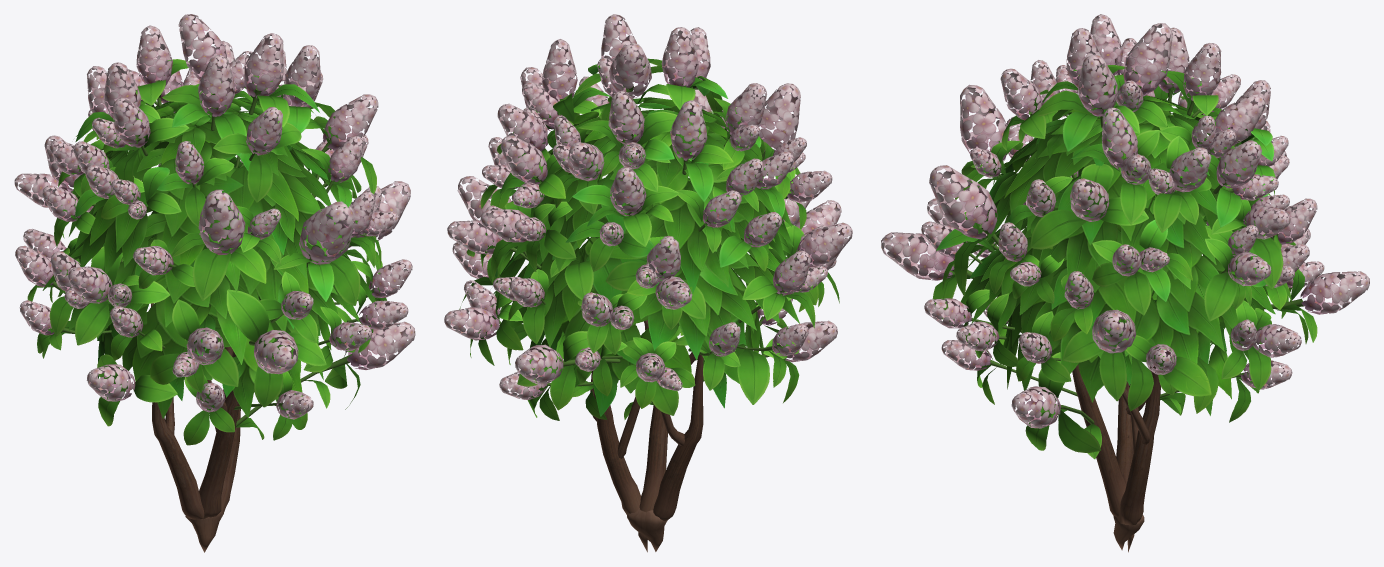
The model's file is SE_Lilac_02b.fbx.
3 renders of one model, left to right at view 1: azimuth 30°, elevation 25°; view 2: azimuth 150°, elevation 25°; view 3: azimuth 270°, elevation 25°, orthographic.
Visible parts, largest first — view 1: SE_Lilac_02b; view 2: SE_Lilac_02b; view 3: SE_Lilac_02b.
Part boxes in pixels (box(x1,y1,x2,y2)): SE_Lilac_02b: box(14, 14, 415, 552); SE_Lilac_02b: box(444, 14, 852, 552); SE_Lilac_02b: box(881, 14, 1369, 552).
Bounding box in the file's own units: 7.55 × 10.23 × 8.56.
